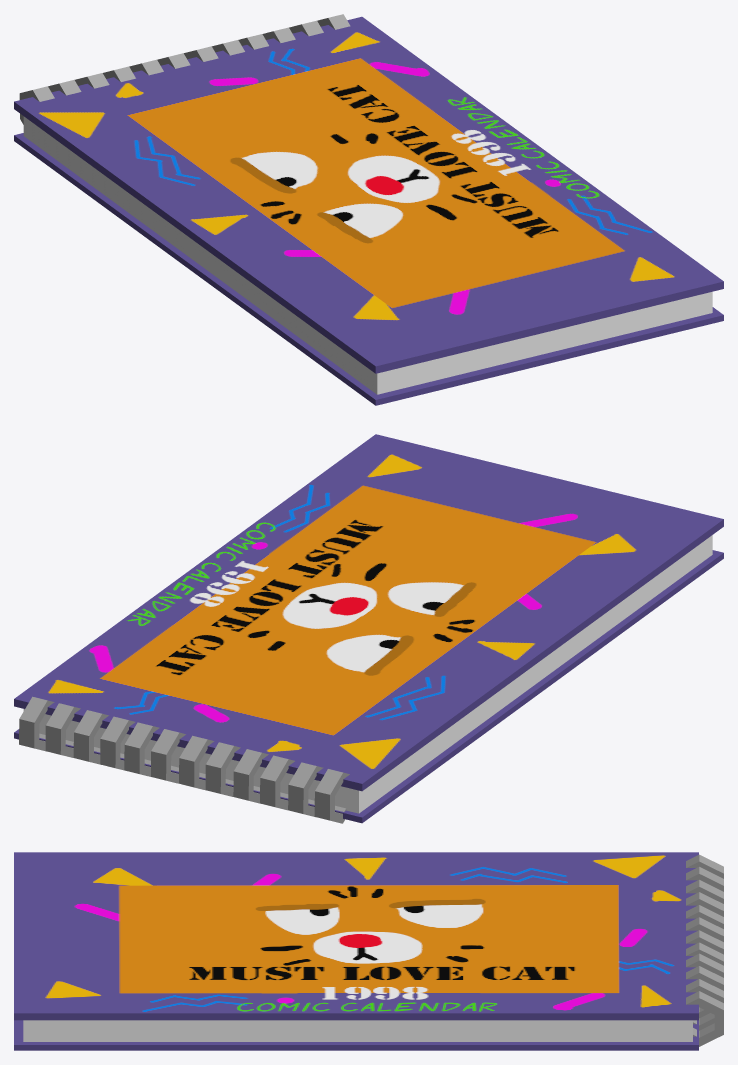
File: comic calendar.fbx
3 views of the same model, one above another, from view 1: azimuth 30°, elevation 25°; view 2: azimuth 150°, elevation 25°; view 3: azimuth 270°, elevation 25° (orthographic). The views are drawn at different scales.
Parts seen in each view (by area): view 1: comic_calendar; view 2: comic_calendar; view 3: comic_calendar.
Boxes of the visible parts, <box> form: comic_calendar: <box>14,14,723,405</box>; comic_calendar: <box>14,434,723,823</box>; comic_calendar: <box>14,852,723,1050</box>.
Size of the model in its own units: 2.83 by 0.3992 by 5.27.
